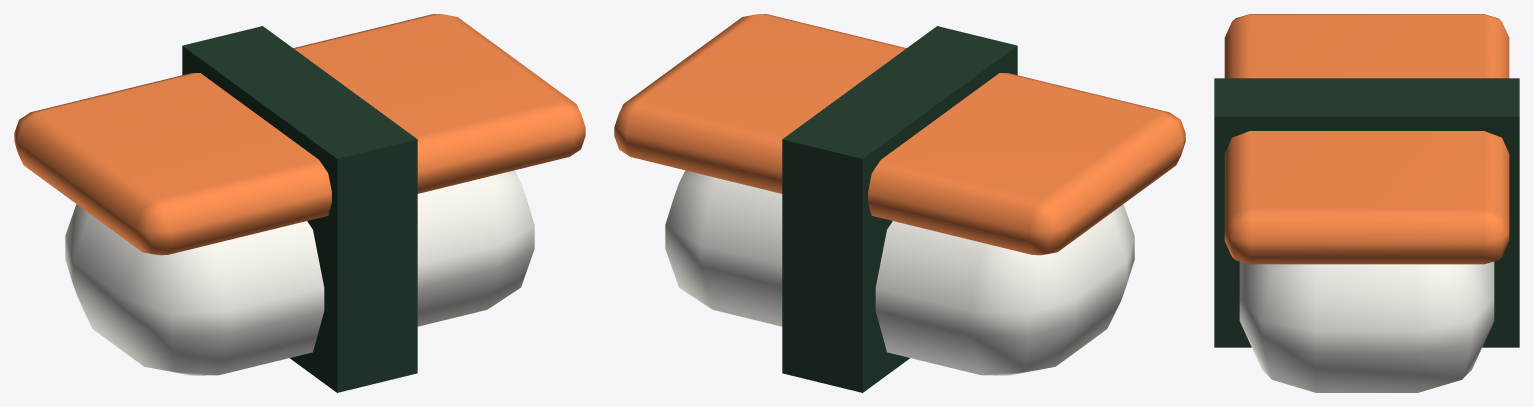
Rendered from Sushi.fbx.
The picture shows the model from 3 angles, left to right: view 1: azimuth 30°, elevation 25°; view 2: azimuth 150°, elevation 25°; view 3: azimuth 270°, elevation 25°; orthographic projection.
Visible parts, largest first — view 1: Sushi; view 2: Sushi; view 3: Sushi.
Part boxes in pixels (x1,y1,x2,y2): Sushi: [14, 14, 585, 392]; Sushi: [614, 14, 1185, 392]; Sushi: [1214, 14, 1519, 392].
Bounding box in the file's own units: 1 × 0.5 × 0.6.
1 material, 1 textured.
